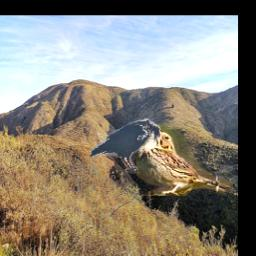Crow: (89, 118, 159, 174)
Sparrow: (135, 125, 232, 197)
